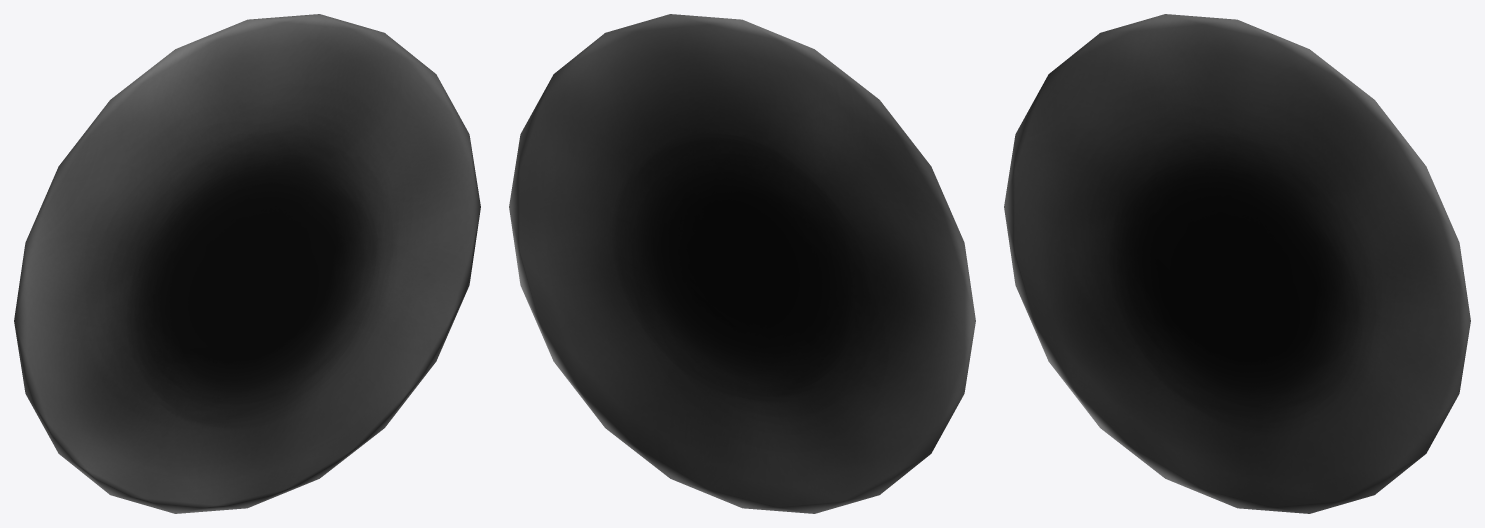
The model's file is shadow.fbx.
The picture shows the model from 3 angles, left to right: view 1: azimuth 30°, elevation 25°; view 2: azimuth 150°, elevation 25°; view 3: azimuth 330°, elevation 25°; orthographic projection.
Parts seen in each view (by area): view 1: Icosphere; view 2: Icosphere; view 3: Icosphere.
Boxes of the visible parts, box(x1,y1,x2,y2) form: Icosphere: box(14, 14, 480, 513); Icosphere: box(509, 14, 975, 513); Icosphere: box(1004, 14, 1470, 513).
Size of the model in its own units: 2 by 2 by 0.0668.
Materials: 1 (1 with a texture image).
